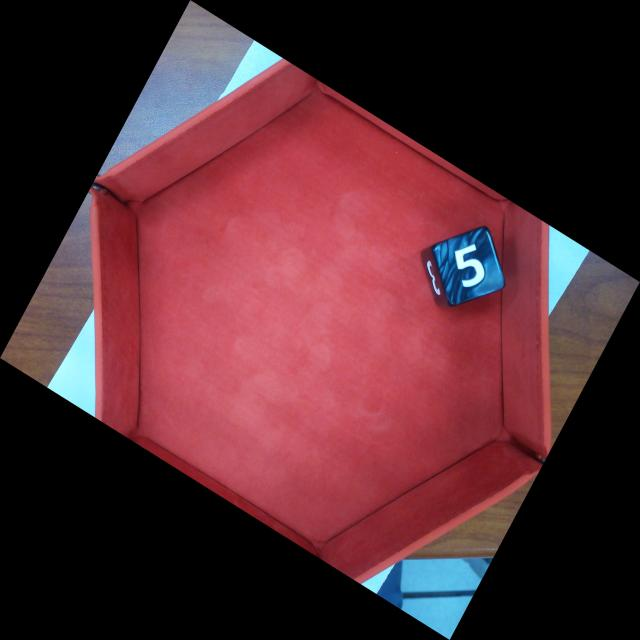dice: (434, 227, 508, 305)
